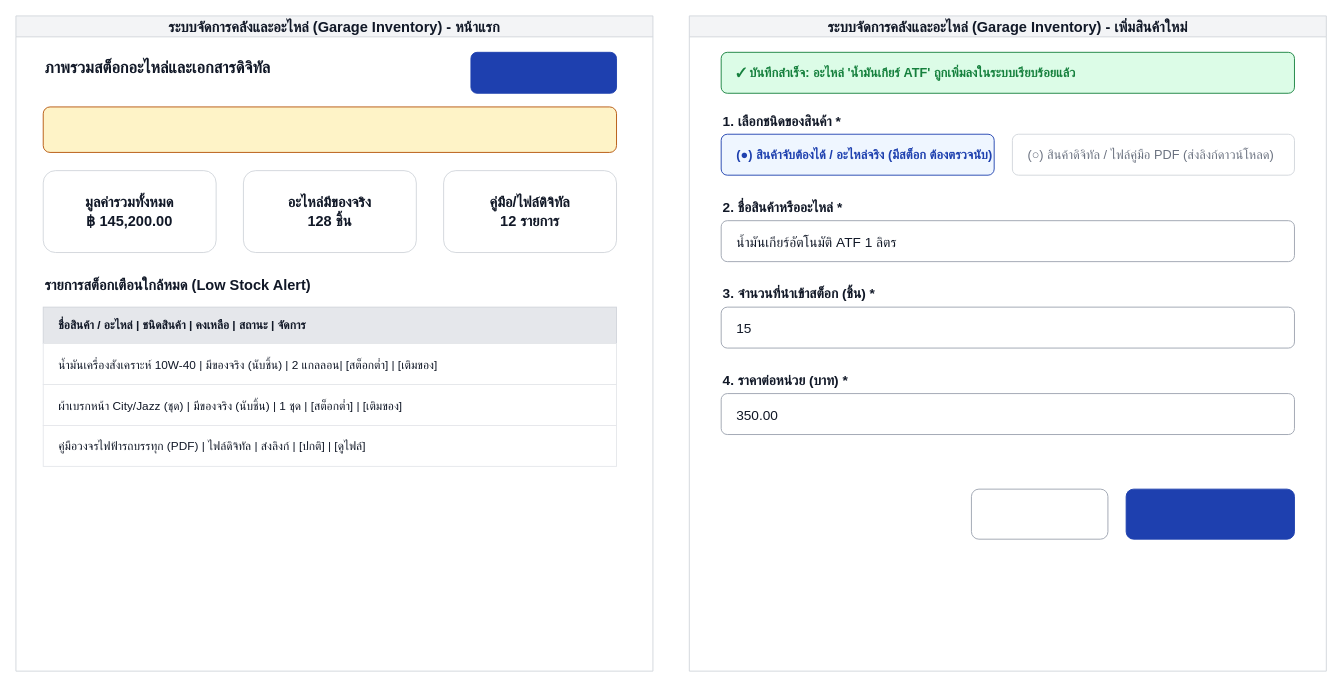
The diagram is 1342 pixels wide and 687 high, and some of its shapes have lost their labels. The shapes that lost their labels are listed below. From the top down, each one's box as (x1, y1, x2, y2) in pixels, then its label:
(470, 51, 617, 93): + เพิ่มรายการใหม่
(42, 106, 617, 152): ⚠️ แจ้งเตือนด่วน: มีสินค้าใกล้หมด 2 รายการ กรุณาตรวจสอบและสั่งซื้อเพิ่ม
(971, 488, 1108, 539): ยกเลิก
(1125, 488, 1294, 539): บันทึกข้อมูลสินค้า
